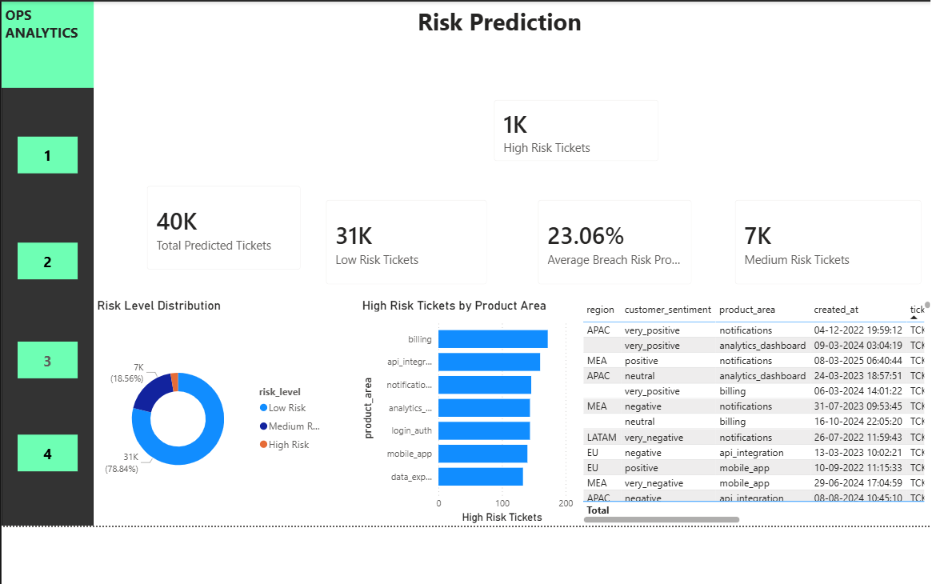

This screenshot's page, from the dashboard's own definition file:
{"tool":"powerbi","page":{"name":"Page 4","canvas":[1280,720],"ordinal":3},"visuals":[{"type":"textbox","box":[9.6,0,1270.7,89.2],"z":0},{"type":"cardVisual","fields":{"Data":["unresolved_ticket_predictions.Total Predicted Tickets"]},"box":[182.5,236,245.6,149.6],"z":1000},{"type":"cardVisual","fields":{"Data":["unresolved_ticket_predictions.High Risk Tickets"]},"box":[658.7,118,260.7,118],"z":2000},{"type":"cardVisual","fields":{"Data":["unresolved_ticket_predictions.Medium Risk Tickets"]},"box":[989.4,255.2,290.9,150.9],"z":3000},{"type":"cardVisual","fields":{"Data":["unresolved_ticket_predictions.Low Risk Tickets"]},"box":[428.1,255.2,255.2,150.9],"z":4000},{"type":"cardVisual","fields":{"Data":["unresolved_ticket_predictions.Average Breach Risk Probability"]},"box":[719,255.2,245.6,150.9],"z":5000},{"type":"donutChart","title":"Risk Level Distribution","fields":{"Category":["unresolved_ticket_predictions.risk_level"],"Y":["unresolved_ticket_predictions.Total Predicted Tickets"]},"box":[126.2,406.2,328,314.2],"z":6000},{"type":"clusteredBarChart","title":"High Risk Tickets by Product Area","fields":{"Category":["unresolved_ticket_predictions.product_area"],"Y":["unresolved_ticket_predictions.High Risk Tickets"]},"box":[489.9,406.2,299.1,314.2],"z":7000},{"type":"tableEx","fields":{"Values":["unresolved_ticket_predictions.region","unresolved_ticket_predictions.customer_sentiment","unresolved_ticket_predictions.product_area","unresolved_ticket_predictions.created_at","unresolved_ticket_predictions.ticket_id","unresolved_ticket_predictions.priority","unresolved_ticket_predictions.sla_plan","unresolved_ticket_predictions.issue_type","Sum(unresolved_ticket_predictions.breach_risk_probability)","unresolved_ticket_predictions.risk_level"]},"box":[791.8,406.2,488.5,314.2],"z":8000},{"type":"shape","box":[0,0,126.2,720.4],"z":8001},{"type":"actionButton","box":[22,185.2,82.3,50.8],"z":8002},{"type":"actionButton","box":[22,330.7,82.3,50.8],"z":8003},{"type":"actionButton","box":[22,466.6,82.3,50.8],"z":8004},{"type":"actionButton","box":[22,594.2,82.3,50.8],"z":8005},{"type":"textbox","box":[0,0,126.2,118],"z":8006}]}

Visuals, with their boxes on the page's 1280x720 design canvas (x1, y1, x2, y2). These are canvas units, not pixel positions in the 931x585 screenshot, which may show the page scaled, cropped or inside an application window:
textbox: [10, 0, 1280, 89]
cardVisual - unresolved_ticket_predictions.Total Predicted Tickets: [182, 236, 428, 386]
cardVisual - unresolved_ticket_predictions.High Risk Tickets: [659, 118, 919, 236]
cardVisual - unresolved_ticket_predictions.Medium Risk Tickets: [989, 255, 1280, 406]
cardVisual - unresolved_ticket_predictions.Low Risk Tickets: [428, 255, 683, 406]
cardVisual - unresolved_ticket_predictions.Average Breach Risk Probability: [719, 255, 965, 406]
"Risk Level Distribution" donutChart: [126, 406, 454, 720]
"High Risk Tickets by Product Area" clusteredBarChart: [490, 406, 789, 720]
tableEx - unresolved_ticket_predictions.region x unresolved_ticket_predictions.customer_sentiment: [792, 406, 1280, 720]
shape: [0, 0, 126, 720]
actionButton: [22, 185, 104, 236]
actionButton: [22, 331, 104, 382]
actionButton: [22, 467, 104, 517]
actionButton: [22, 594, 104, 645]
textbox: [0, 0, 126, 118]
